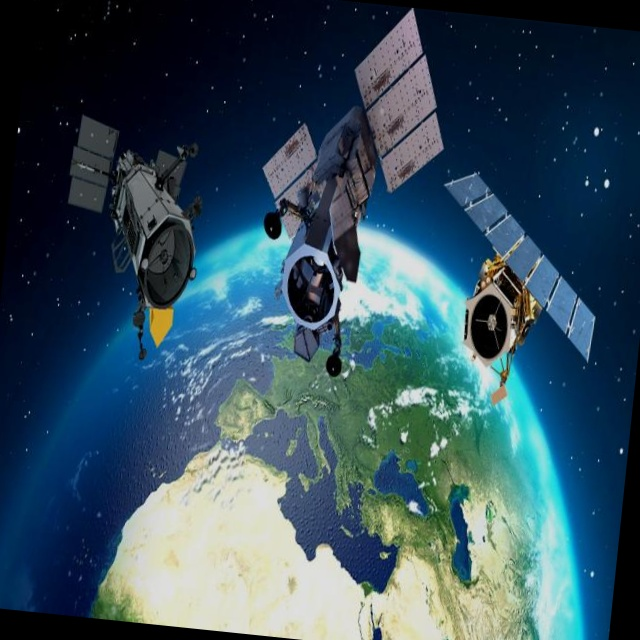medium_debris: (229, 0, 464, 422), (416, 124, 629, 440), (45, 81, 220, 373)
